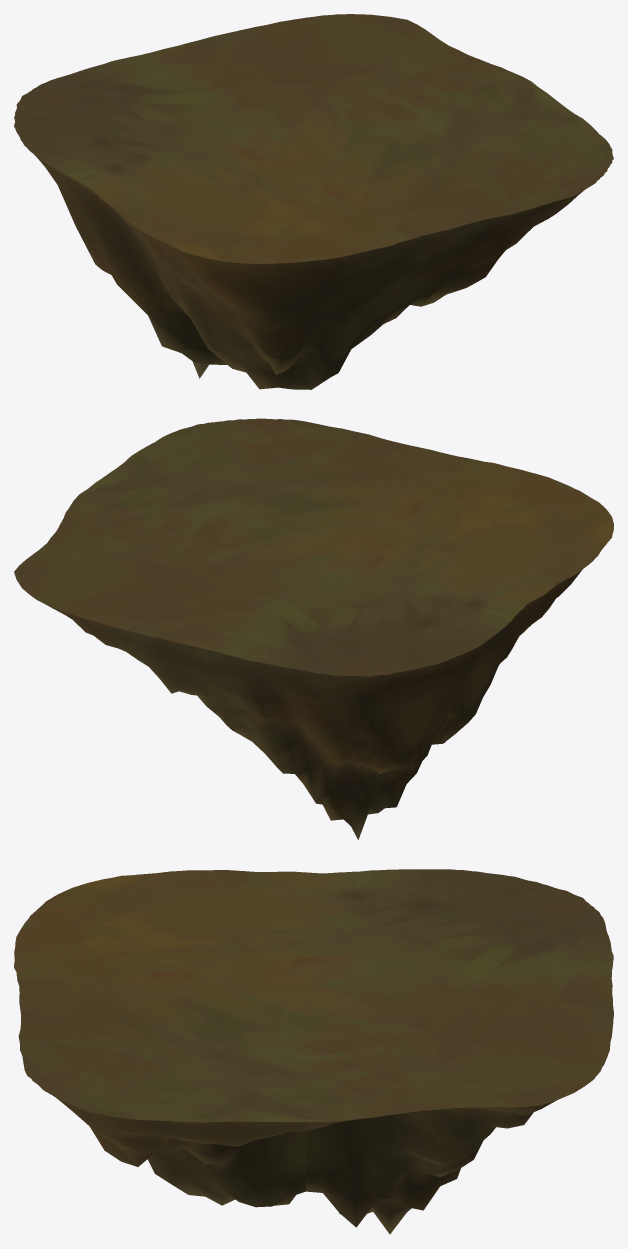
File: Puzzle1.fbx
3 renders of one model, top to bottom at view 1: azimuth 30°, elevation 25°; view 2: azimuth 150°, elevation 25°; view 3: azimuth 270°, elevation 25°, orthographic. The views are drawn at different scales.
Visible parts, largest first — view 1: Puzzle1; view 2: Puzzle1; view 3: Puzzle1.
Boxes of the visible parts, x1,y1,x2,y2 form: Puzzle1: (14, 14, 613, 389); Puzzle1: (14, 418, 613, 839); Puzzle1: (14, 869, 613, 1234).
Bounding box in the file's own units: 183 × 95.62 × 183.
1 material, 1 textured.
